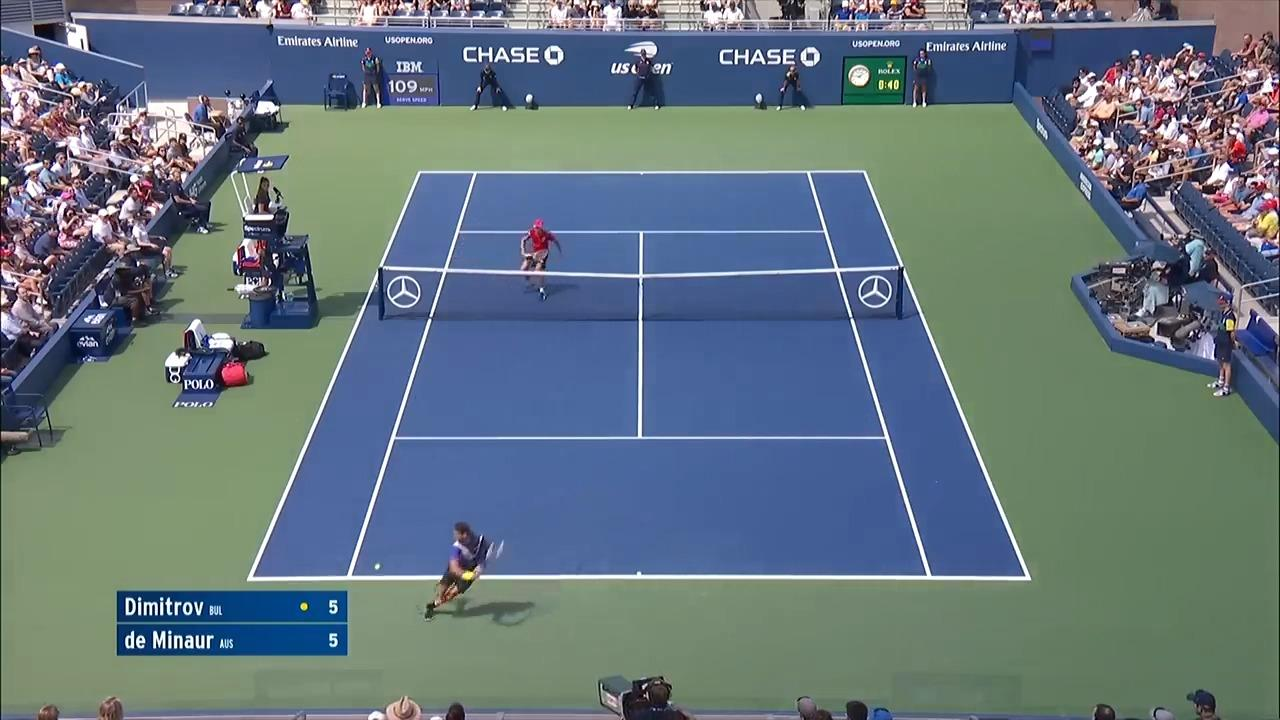tennis ball: (374, 563, 382, 570)
